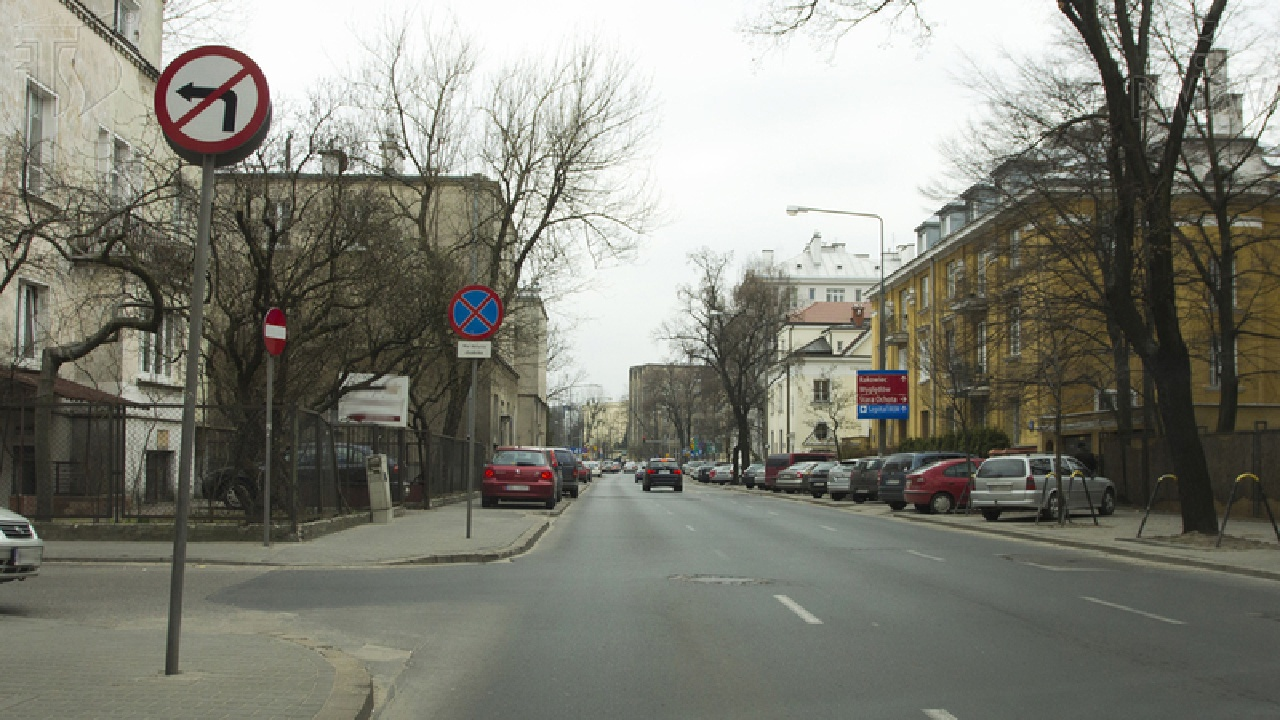B2: (263, 307, 287, 356)
B21: (154, 45, 271, 161)
B36: (449, 286, 503, 341)
